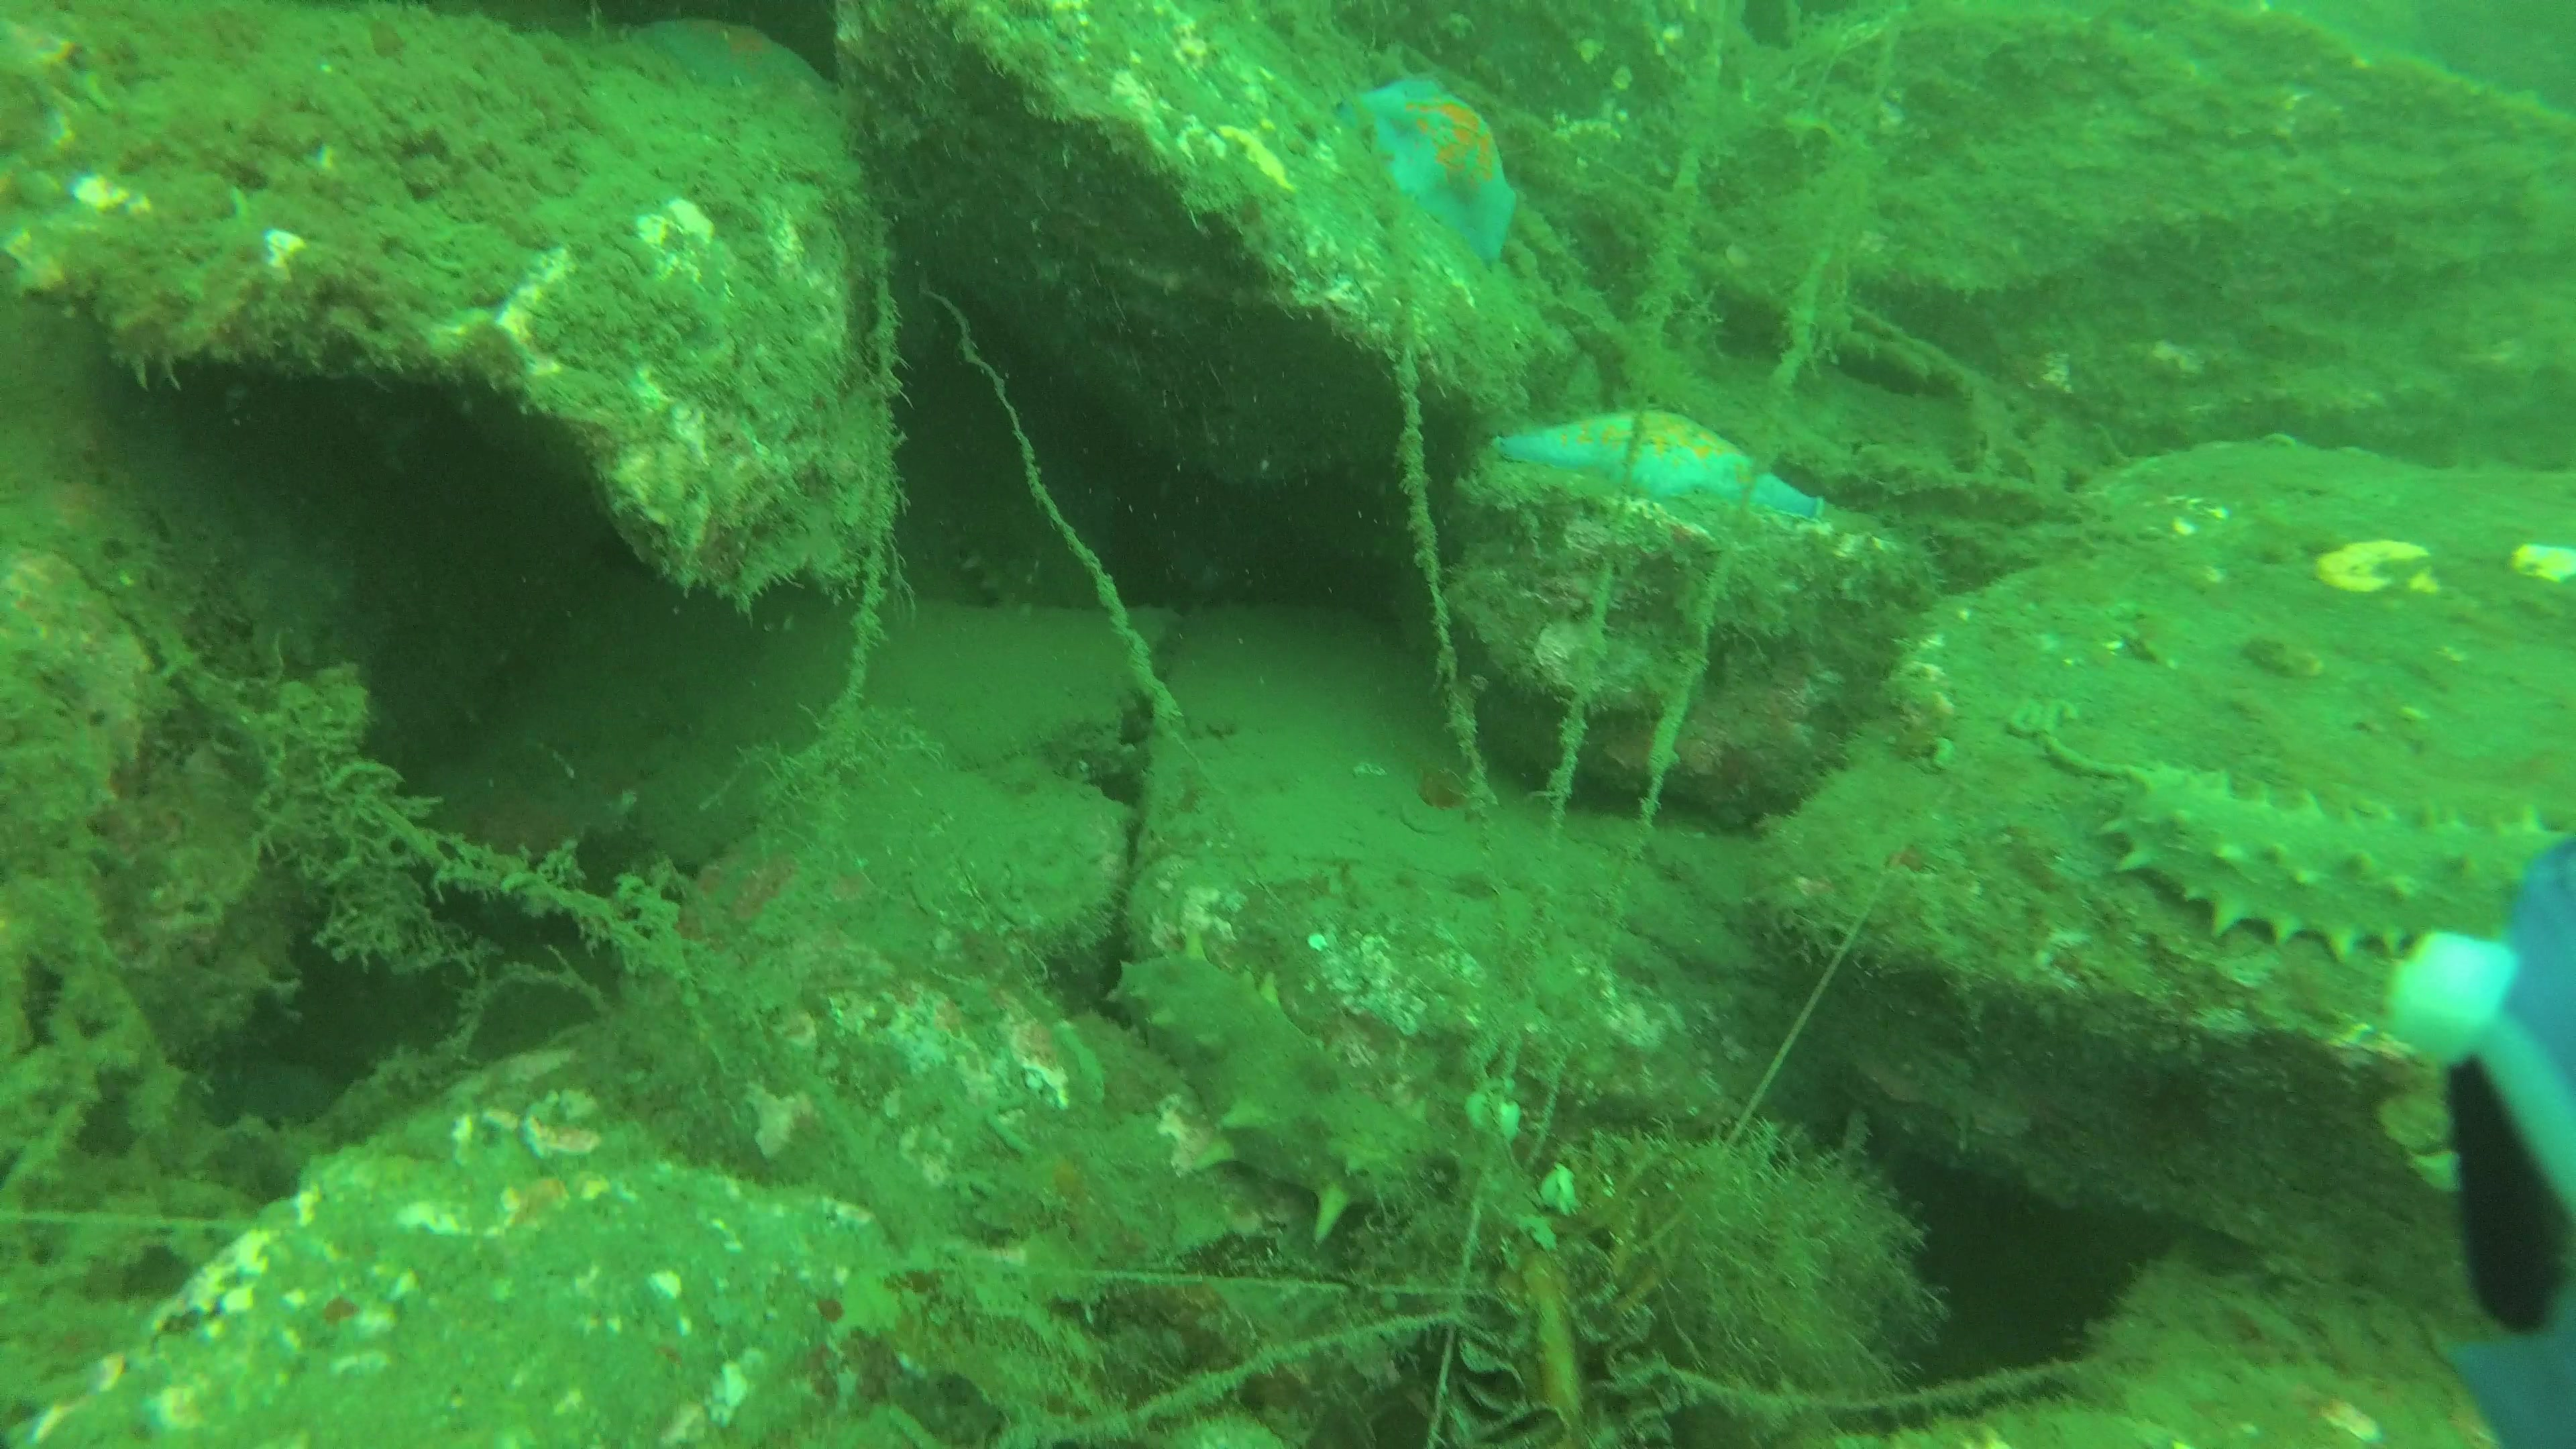holothurian: (1108, 938, 1445, 1242), (2097, 755, 2567, 970)
starfish: (1491, 405, 1835, 533), (1345, 65, 1527, 272)
